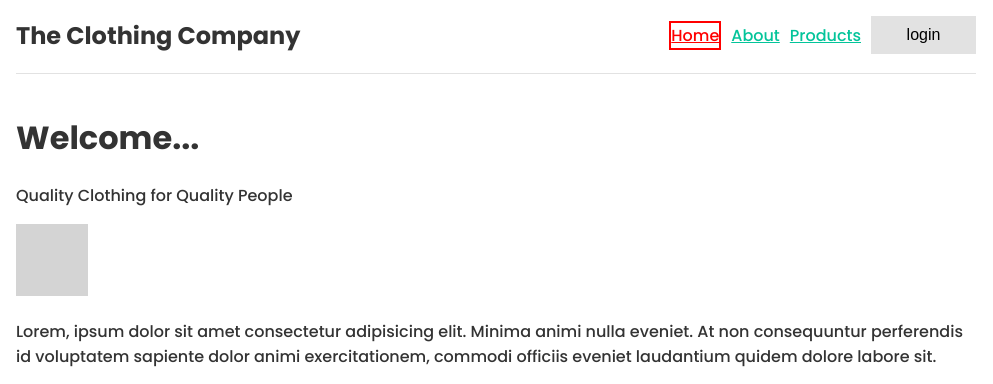
Test: React Router Application E2E Tests › should login successfully and show logged in state
This screenshot has width=993, height=384.
// Click login
Click the button with test id "login_button" at (924, 35), box [871,16,976,54]
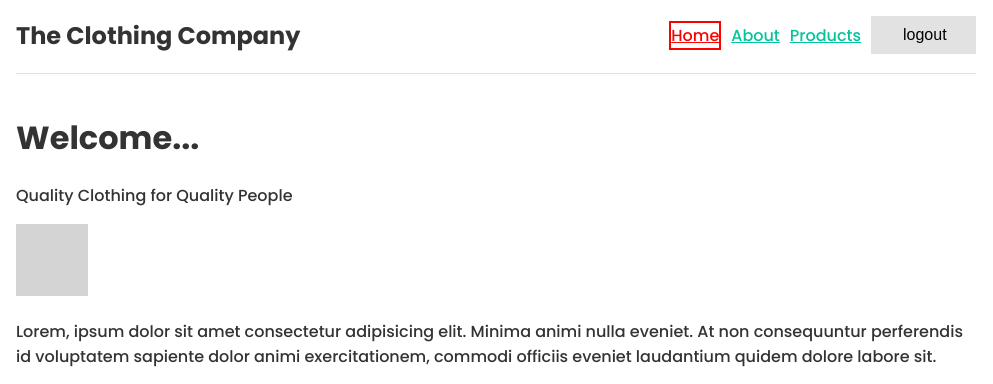
Expected: the button with test id "login_button" reads "logout", [871,16,976,54]
